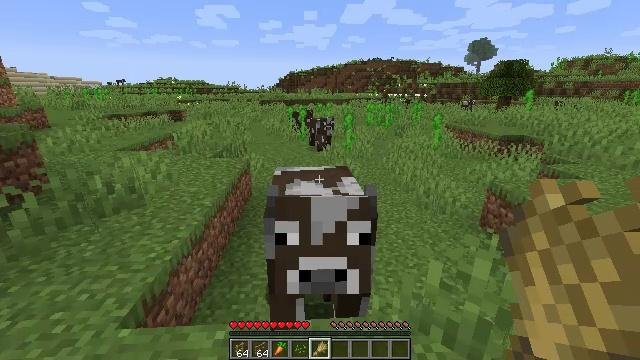cow: (268, 166, 378, 319), (310, 117, 335, 150), (290, 110, 314, 130), (461, 100, 476, 113), (116, 79, 126, 86)
